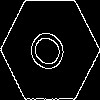O: (25, 25, 77, 82)
